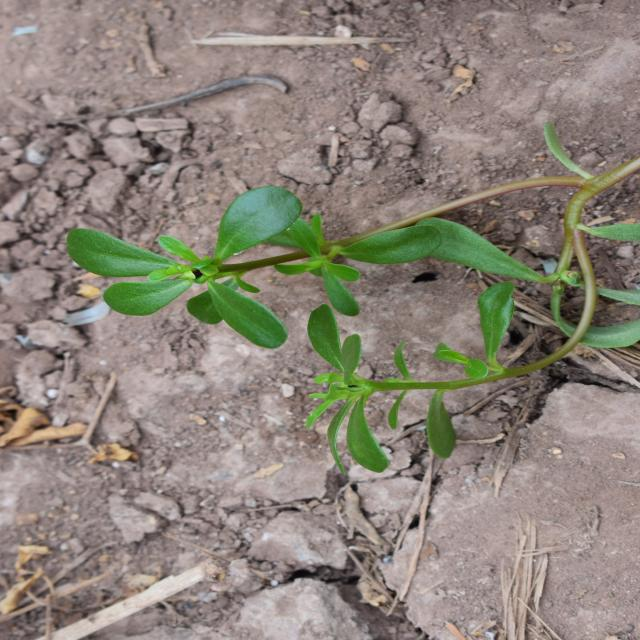purslane: (171, 62, 451, 544)
